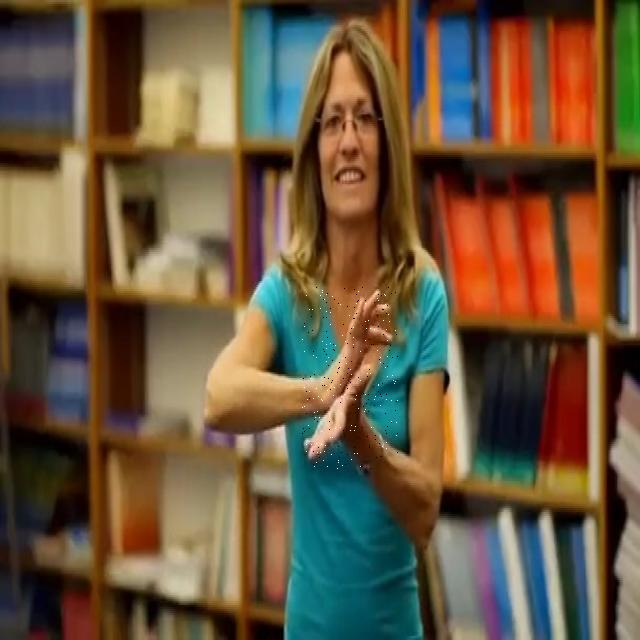cheese: (302, 287, 398, 469)
